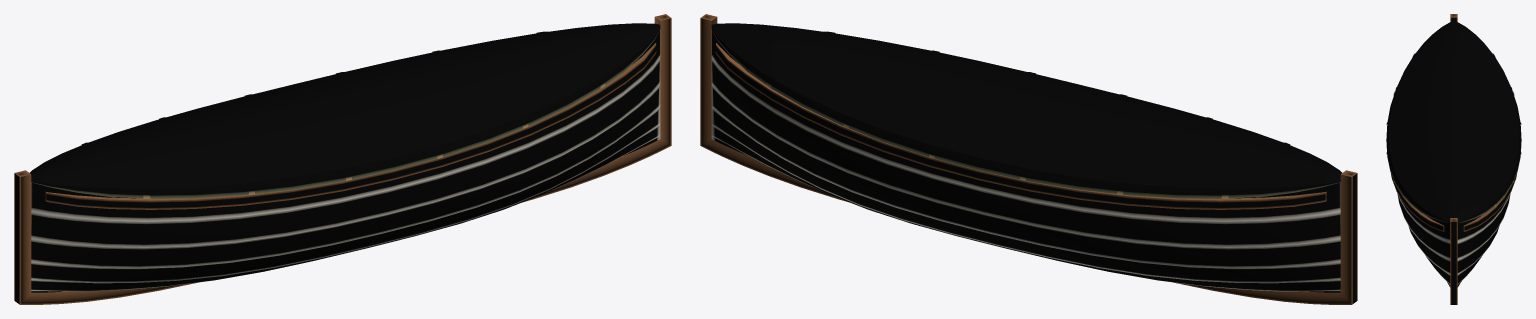
File: lifeboat.glb
3 views of the same model, side by side, from view 1: azimuth 30°, elevation 25°; view 2: azimuth 150°, elevation 25°; view 3: azimuth 270°, elevation 25° (orthographic). The views are drawn at different scales.
Visible parts, largest first — view 1: cover, hull, rubbing_strake, keel, straps; view 2: cover, hull, rubbing_strake, keel, straps; view 3: cover, hull, straps, rubbing_strake, keel.
Boxes of the visible parts, x1,y1,x2,y2 form: cover: (30,23,660,198); hull: (31,30,660,292); rubbing_strake: (45,43,656,209); keel: (14,14,671,304); straps: (81,31,605,198); cover: (711,23,1341,198); hull: (711,30,1340,292); rubbing_strake: (715,43,1326,209); keel: (700,14,1357,304); straps: (766,31,1290,198); cover: (1386,21,1521,222); hull: (1397,193,1510,287); straps: (1386,43,1521,206); rubbing_strake: (1391,174,1516,231); keel: (1450,14,1457,304).
Bounding box in the file's own units: 4 × 0.8972 × 1.1.
